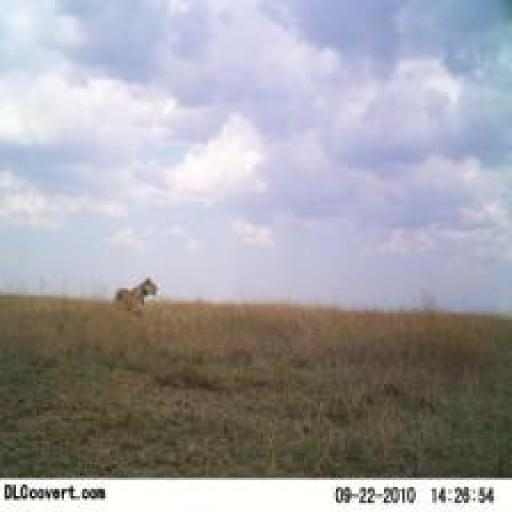lion: (105, 270, 173, 319)
